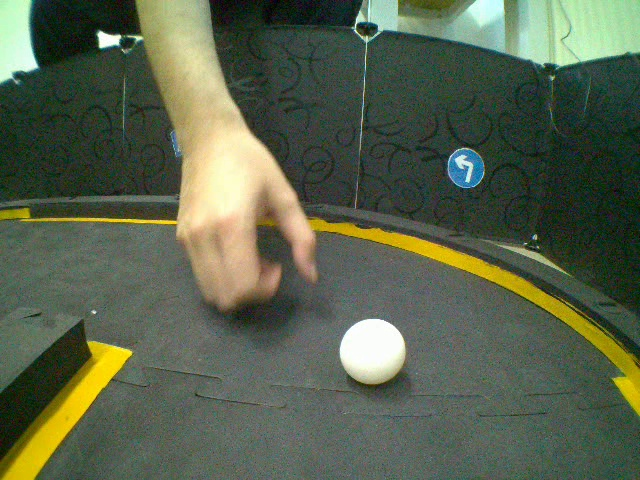ball: (338, 316, 407, 388)
